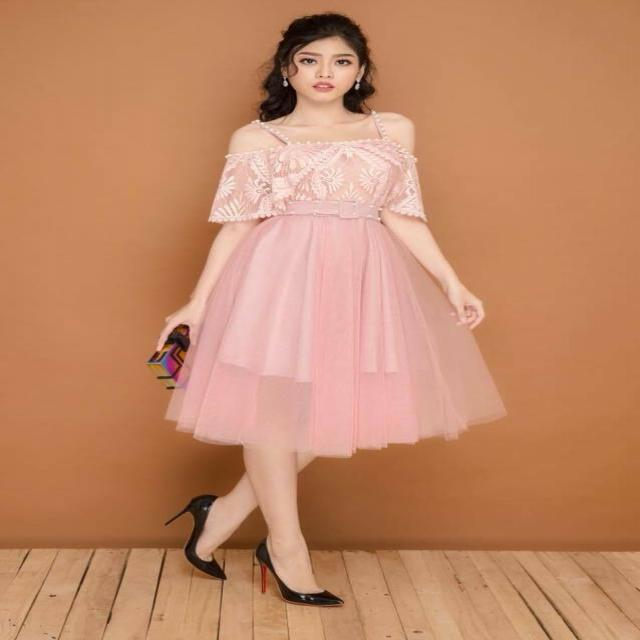clothes: (145, 108, 516, 461)
